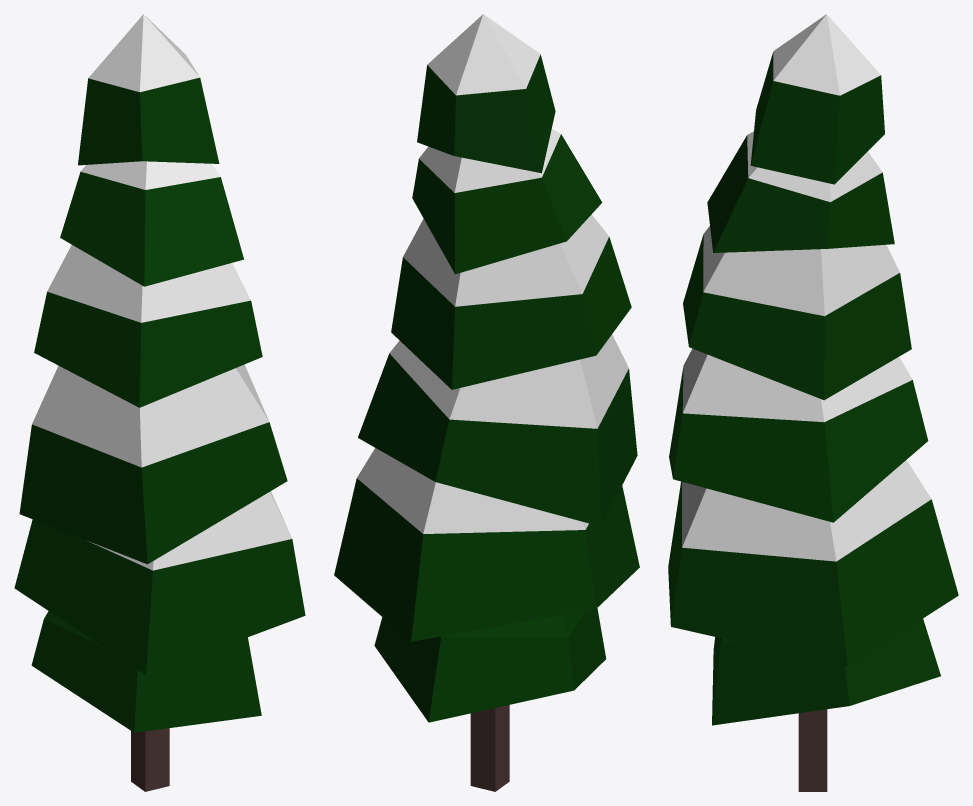
File: DarkWoodDecorationMediumXMasTree1.fbx
3 renders of one model, left to right at view 1: azimuth 30°, elevation 25°; view 2: azimuth 150°, elevation 25°; view 3: azimuth 270°, elevation 25°, orthographic.
Parts seen in each view (by area): view 1: Canopy, Trunk; view 2: Canopy, Trunk; view 3: Canopy, Trunk.
Part boxes in pixels (x1=…): Canopy: x1=14, y1=14, x2=305, y2=732; Trunk: x1=131, y1=728, x2=169, y2=791; Canopy: x1=334, y1=14, x2=639, y2=722; Trunk: x1=470, y1=705, x2=509, y2=791; Canopy: x1=668, y1=14, x2=958, y2=725; Trunk: x1=798, y1=709, x2=827, y2=791.
Size of the model in its own units: 291 by 827 by 282.
